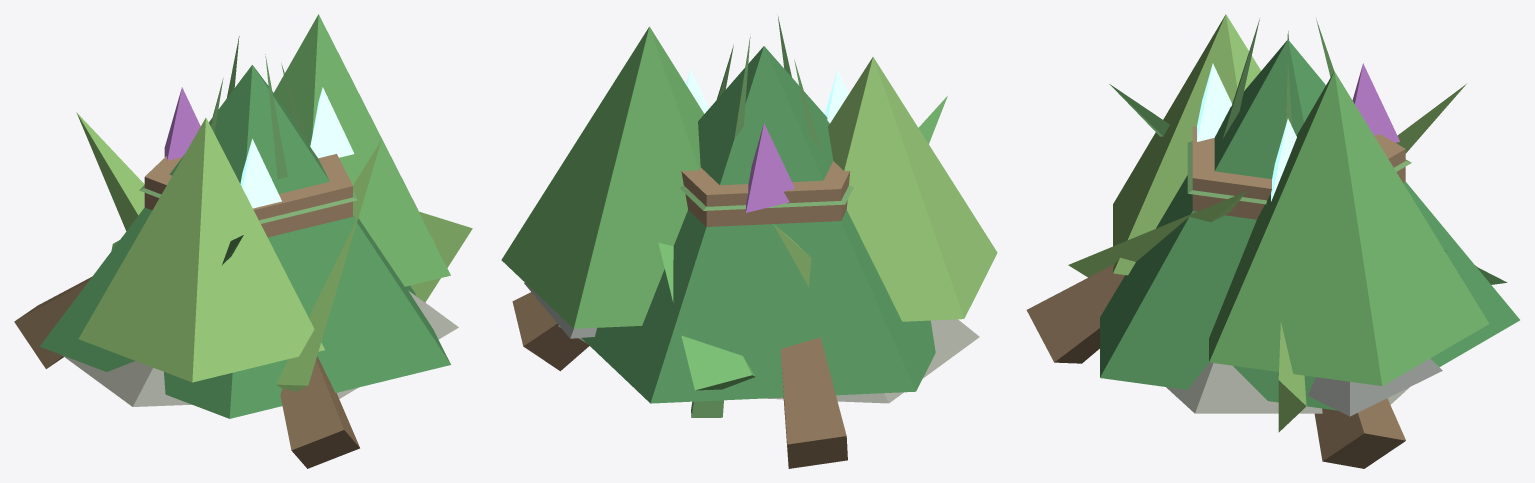
File: jungle_filler_kit.glb
3 renders of one model, left to right at view 1: azimuth 30°, elevation 25°; view 2: azimuth 150°, elevation 25°; view 3: azimuth 270°, elevation 25°, orthographic. The views are drawn at different scales.
Visible parts, largest first — view 1: fill_shrub_leafy, fill_fern_small, fill_root_knot, fill_stump_moss, fill_flower_bush, fill_rock_mossy, fill_vine_tangle; view 2: fill_shrub_leafy, fill_root_knot, fill_stump_moss, fill_fern_small, fill_flower_bush, fill_rock_mossy, fill_vine_tangle; view 3: fill_shrub_leafy, fill_root_knot, fill_rock_mossy, fill_fern_small, fill_stump_moss, fill_flower_bush, fill_vine_tangle.
Boxes of the visible parts, box(x1,y1,x2,y2) form: fill_shrub_leafy: box(40, 14, 450, 418); fill_fern_small: box(76, 112, 472, 391); fill_root_knot: box(14, 277, 359, 468); fill_stump_moss: box(139, 154, 357, 237); fill_flower_bush: box(164, 87, 354, 208); fill_rock_mossy: box(62, 291, 458, 406); fill_vine_tangle: box(210, 36, 308, 179); fill_shrub_leafy: box(501, 26, 997, 403); fill_root_knot: box(512, 292, 847, 468); fill_stump_moss: box(679, 161, 853, 226); fill_fern_small: box(658, 96, 947, 390); fill_flower_bush: box(686, 69, 848, 212); fill_rock_mossy: box(524, 282, 979, 403); fill_vine_tangle: box(691, 16, 822, 417); fill_shrub_leafy: box(1100, 14, 1519, 410); fill_root_knot: box(1026, 264, 1476, 468); fill_rock_mossy: box(1166, 358, 1442, 416); fill_fern_small: box(1068, 84, 1507, 432); fill_stump_moss: box(1187, 126, 1411, 219); fill_flower_bush: box(1197, 63, 1399, 201); fill_vine_tangle: box(1222, 18, 1334, 138).
Bounding box in the file's own units: 1.59 × 1.31 × 1.59.
